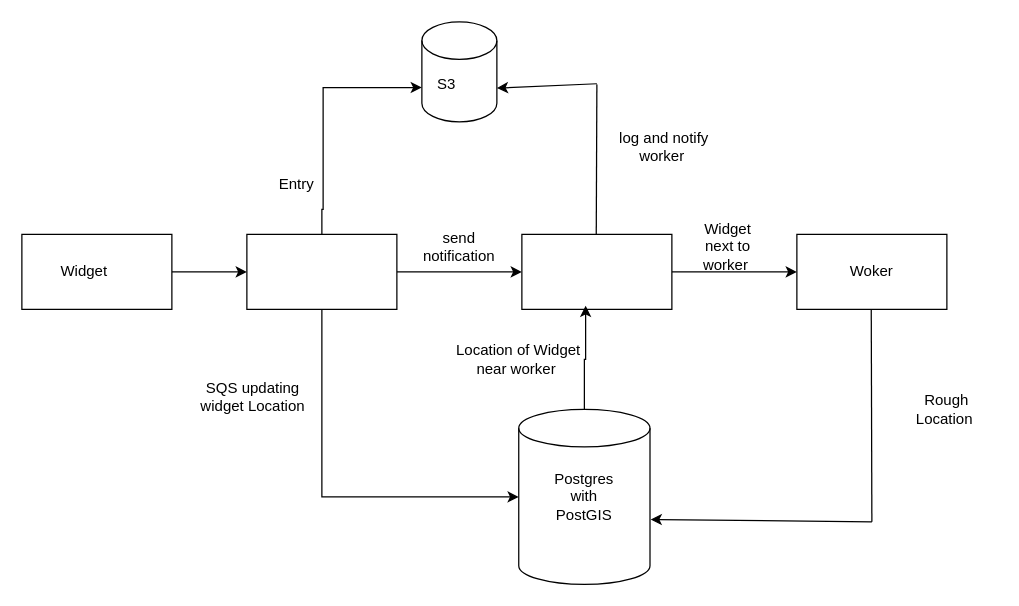
Image size: 1019x606. Some labels were removed from this diagram. The shapes that lost their labels are listed below. From the top down, each one's centre as x and y in pixels, then its label:
At pixel 321 271: "SQS".
At pixel 596 271: "SNS".
